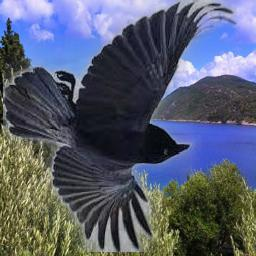Crow: (3, 0, 237, 252)
